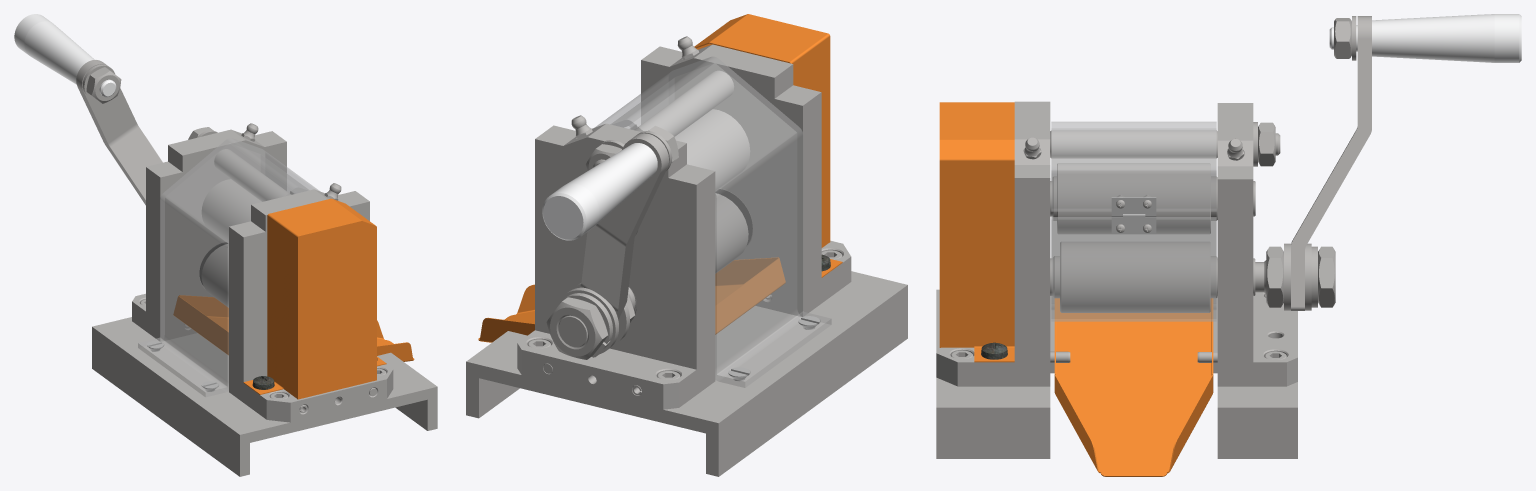
Rendered from moenda.glb.
The picture shows the model from 3 angles, left to right: view 1: azimuth 30°, elevation 25°; view 2: azimuth 150°, elevation 25°; view 3: azimuth 270°, elevation 25°; orthographic projection. The views are drawn at different scales.
Visible parts, largest first — view 1: Sólido1 (×12), Solid1; view 2: Sólido1 (×13), Solid1 (×3); view 3: Sólido1 (×16), Solid1 (×4).
Boxes of the visible parts, x1,y1,x2,y2 form: Sólido1 (×12): (14,14,437,476); Solid1: (86,67,121,103); Sólido1 (×13): (466,14,907,476); Solid1 (×3): (546,287,618,359); Sólido1 (×16): (936,14,1521,476); Solid1 (×4): (1258,18,1351,307).
Bounding box in the file's own units: 0.1539 × 0.1695 × 0.2621.
9 materials, 1 textured.
